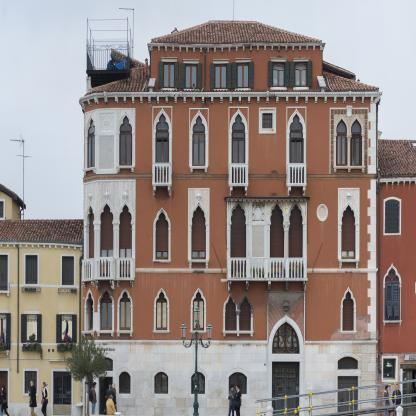Balcony: (227, 257, 308, 281), (94, 257, 116, 281), (152, 162, 172, 188), (287, 163, 307, 188), (229, 164, 249, 187), (116, 257, 134, 281), (81, 258, 96, 282)
Building Outline: (79, 20, 383, 416)
Cornice: (224, 196, 310, 202), (161, 57, 178, 62), (293, 57, 310, 62), (213, 59, 229, 64), (235, 58, 252, 62), (270, 57, 287, 61), (183, 59, 199, 63)
Deco: (79, 92, 383, 111), (99, 113, 114, 132), (317, 204, 329, 222), (283, 298, 291, 313), (346, 105, 353, 118), (302, 281, 307, 292), (197, 190, 202, 201), (123, 189, 128, 200), (104, 189, 109, 199), (87, 191, 92, 201), (245, 281, 249, 291), (267, 281, 271, 291), (285, 281, 289, 291), (347, 190, 351, 200), (228, 281, 231, 292), (103, 91, 107, 97), (179, 91, 183, 97), (266, 91, 270, 97), (348, 91, 352, 97), (228, 251, 231, 259), (248, 251, 250, 258)
Door: (272, 362, 299, 416), (231, 222, 247, 277), (288, 223, 303, 278), (270, 223, 285, 278), (338, 376, 358, 416), (155, 138, 169, 183), (232, 138, 246, 183), (289, 138, 303, 183), (119, 229, 132, 277), (100, 229, 113, 277), (99, 377, 113, 415), (86, 231, 94, 278)
Facade: (78, 20, 383, 416)
Floor: (82, 188, 376, 281), (82, 106, 376, 187), (82, 281, 376, 346)
Floor Slab: (82, 102, 376, 106), (82, 277, 376, 281), (82, 183, 376, 187), (82, 342, 376, 346)
Ground Floor: (82, 346, 376, 415)
Molding: (83, 174, 378, 185), (151, 43, 326, 52), (83, 341, 378, 346), (135, 268, 378, 273)
Roof: (150, 20, 323, 44), (84, 65, 151, 96), (322, 70, 379, 92)
Sill: (333, 166, 365, 173), (188, 259, 209, 269), (338, 259, 360, 268), (222, 331, 254, 337), (96, 330, 115, 337), (116, 330, 133, 337), (339, 328, 358, 334), (116, 166, 135, 172), (82, 330, 94, 337), (153, 259, 171, 263), (153, 330, 171, 334), (189, 331, 207, 334)
Top Floor: (150, 44, 322, 106)
Window: (272, 321, 300, 354), (191, 224, 206, 259), (99, 290, 112, 330), (342, 223, 356, 259), (119, 290, 131, 330), (342, 291, 354, 331), (192, 131, 205, 166), (193, 290, 204, 330), (156, 290, 167, 330), (120, 132, 133, 165), (156, 228, 169, 260), (239, 297, 251, 331), (225, 296, 237, 330), (229, 372, 247, 394), (336, 134, 348, 166), (350, 134, 362, 166), (214, 63, 227, 89), (100, 203, 113, 229), (272, 62, 285, 87), (119, 204, 132, 229), (295, 61, 307, 87), (163, 62, 175, 88), (185, 63, 197, 89), (191, 372, 205, 394), (154, 372, 168, 394), (237, 63, 249, 88), (231, 203, 246, 222), (86, 292, 93, 331), (87, 134, 95, 168), (192, 205, 206, 224), (289, 203, 303, 222), (270, 203, 284, 222), (119, 372, 130, 394), (338, 357, 358, 369), (155, 212, 169, 228), (192, 115, 206, 131), (290, 114, 303, 130), (156, 113, 169, 129), (232, 114, 245, 130), (120, 115, 132, 132), (87, 205, 94, 232), (99, 358, 113, 371), (351, 118, 362, 133), (336, 118, 347, 133), (263, 113, 273, 129), (87, 118, 95, 137), (289, 130, 303, 138), (232, 130, 246, 137), (155, 130, 169, 137)
